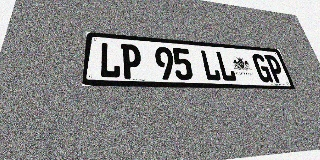5: (172, 48, 194, 80)
9: (154, 46, 176, 80)
G: (251, 54, 274, 82)
L: (99, 42, 121, 78), (200, 50, 222, 81), (215, 51, 237, 82)
P: (121, 44, 142, 79), (264, 55, 287, 83)
